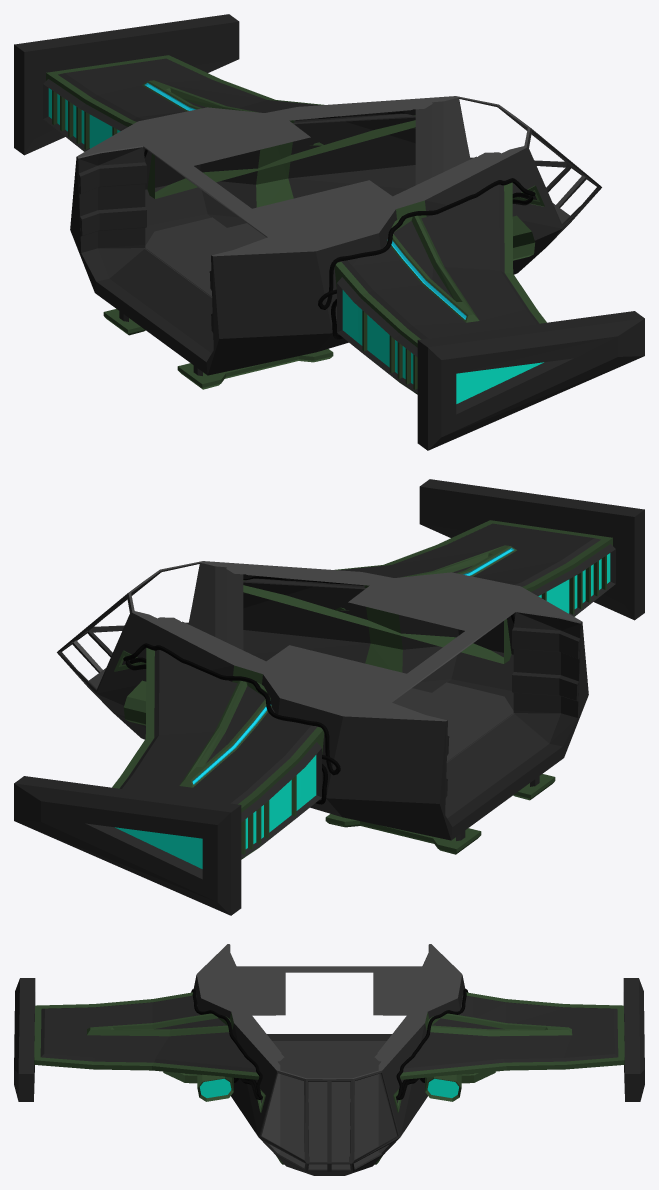
The model's file is Ship_Body.FBX.
3 renders of one model, top to bottom at view 1: azimuth 30°, elevation 25°; view 2: azimuth 150°, elevation 25°; view 3: azimuth 270°, elevation 25°, orthographic. The views are drawn at different scales.
Visible parts, largest first — view 1: Object003; view 2: Object003; view 3: Object003.
Boxes of the visible parts, x1,y1,x2,y2 form: Object003: (14,14,644,450); Object003: (14,479,644,915); Object003: (14,944,644,1175).
Bounding box in the file's own units: 19.04 × 31.45 × 6.19.
